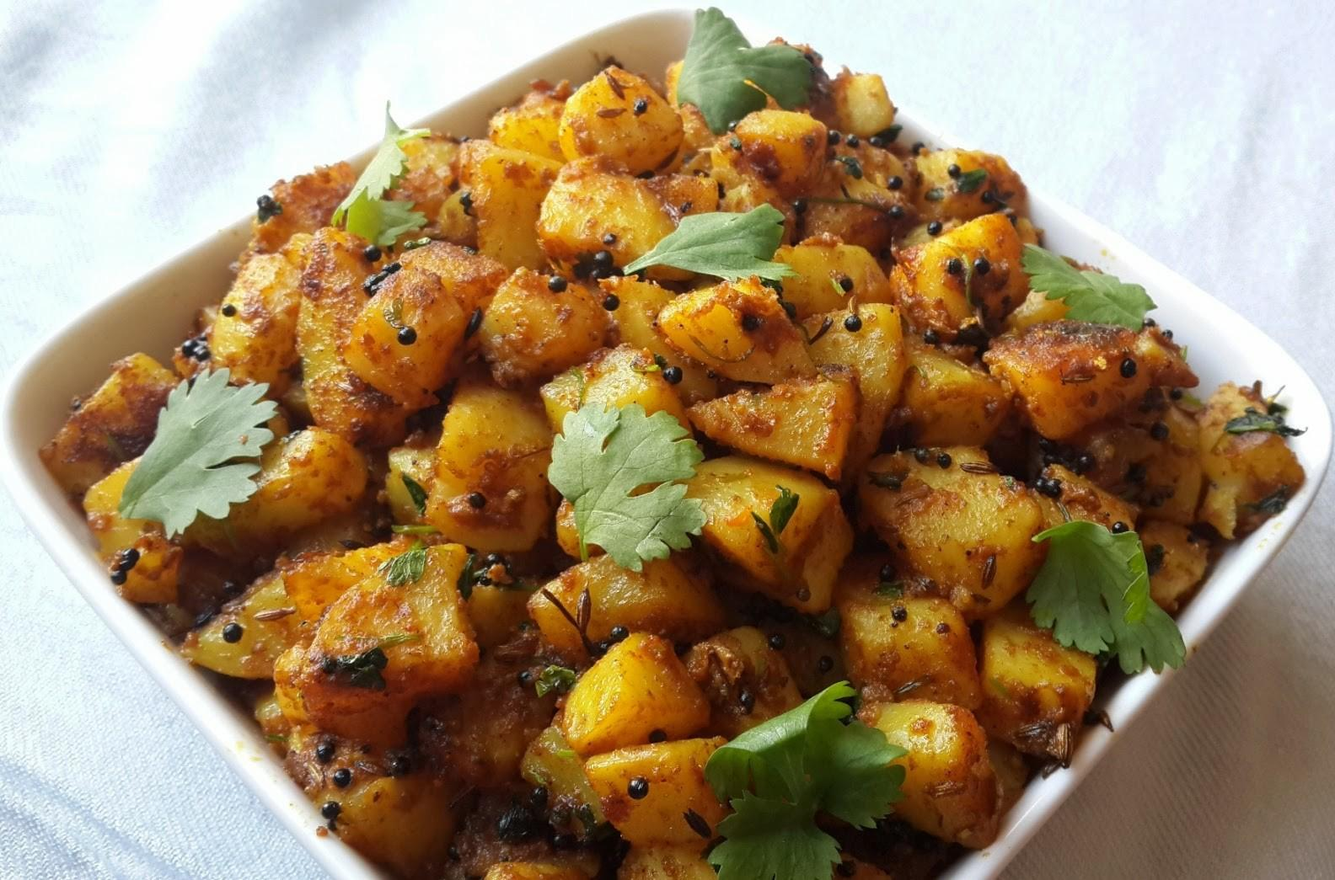AlooMasala: (44, 7, 1305, 880)
